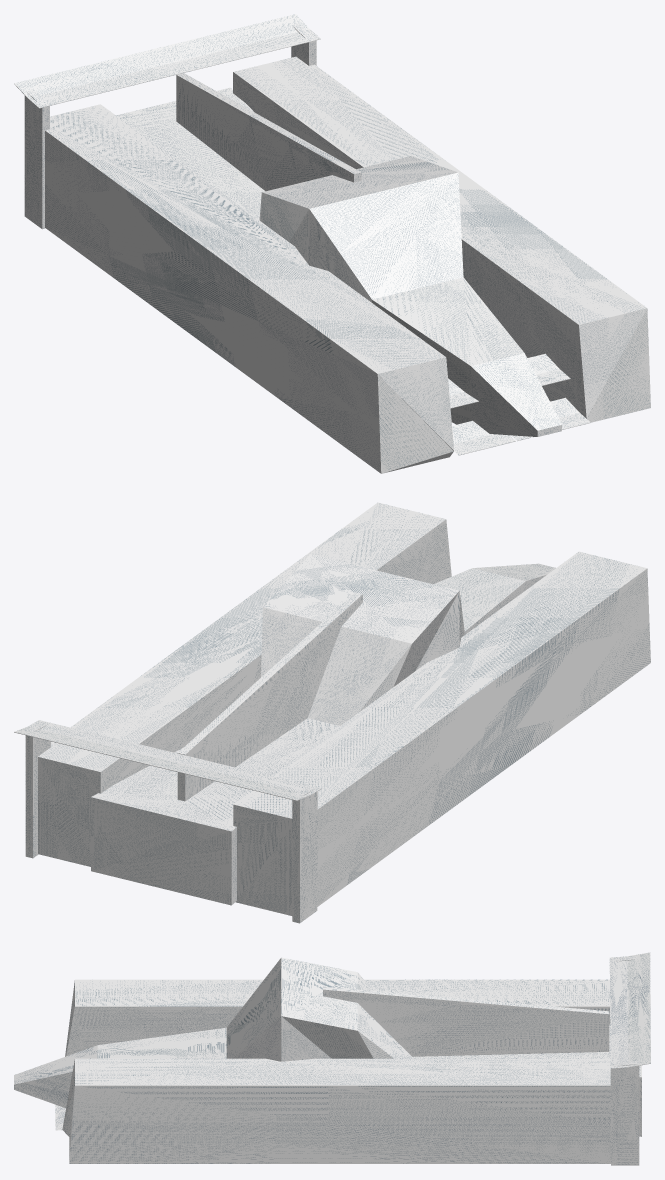
File: Strawberry_car_Coll.dae
3 views of the same model, one above another, from view 1: azimuth 30°, elevation 25°; view 2: azimuth 150°, elevation 25°; view 3: azimuth 270°, elevation 25° (orthographic). The views are drawn at different scales.
Visible parts, largest first — view 1: Union; view 2: Union; view 3: Union.
Part boxes in pixels (x1,y1,x2,y2): Union: (14, 14, 650, 473); Union: (14, 502, 650, 923); Union: (14, 952, 650, 1165).
Size of the model in its own units: 72.95 by 177 by 38.24.
